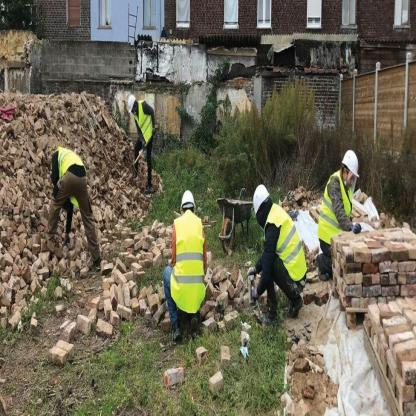brick: (2, 88, 172, 364), (305, 186, 415, 414), (162, 254, 260, 394), (275, 339, 338, 411), (278, 183, 324, 275)
